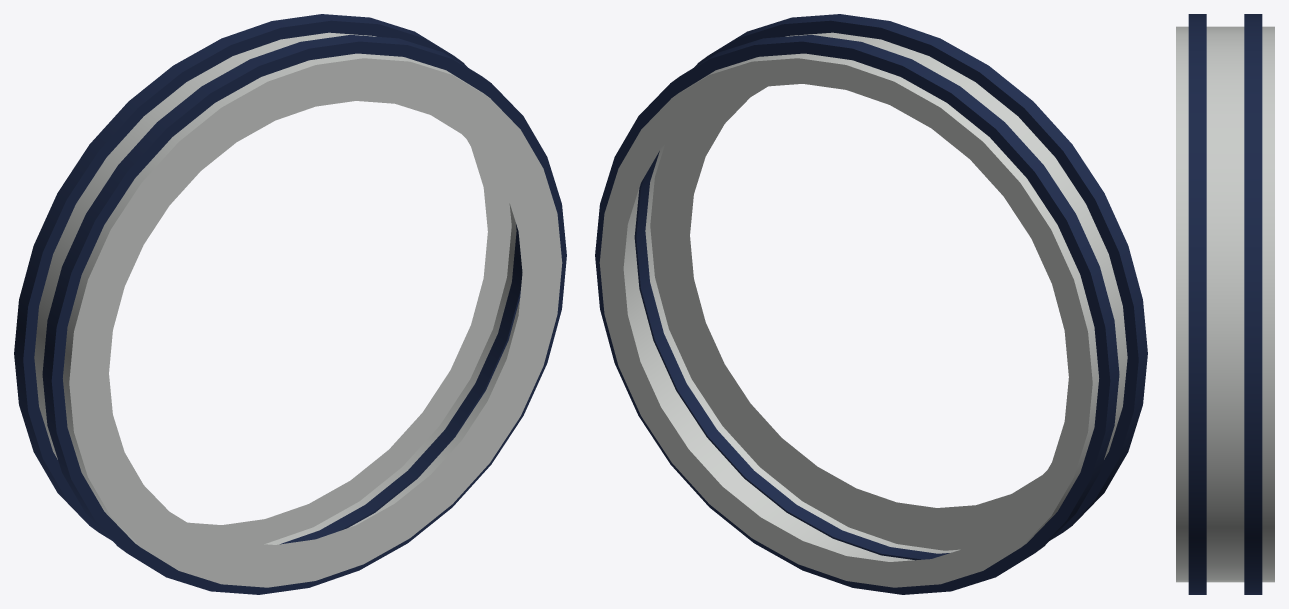
Rendered from srw_formation_aft.obj.
3 views of the same model, side by side, from view 1: azimuth 30°, elevation 25°; view 2: azimuth 150°, elevation 25°; view 3: azimuth 270°, elevation 25° (orthographic). The views are drawn at different scales.
Visible parts, largest first — view 1: srw_formation_aft; view 2: srw_formation_aft; view 3: srw_formation_aft.
Part boxes in pixels (x1,y1,x2,y2): srw_formation_aft: (14,14,566,594); srw_formation_aft: (595,14,1147,594); srw_formation_aft: (1176,14,1274,594).
Bounding box in the file's own units: 3.24 × 3.24 × 0.55.
